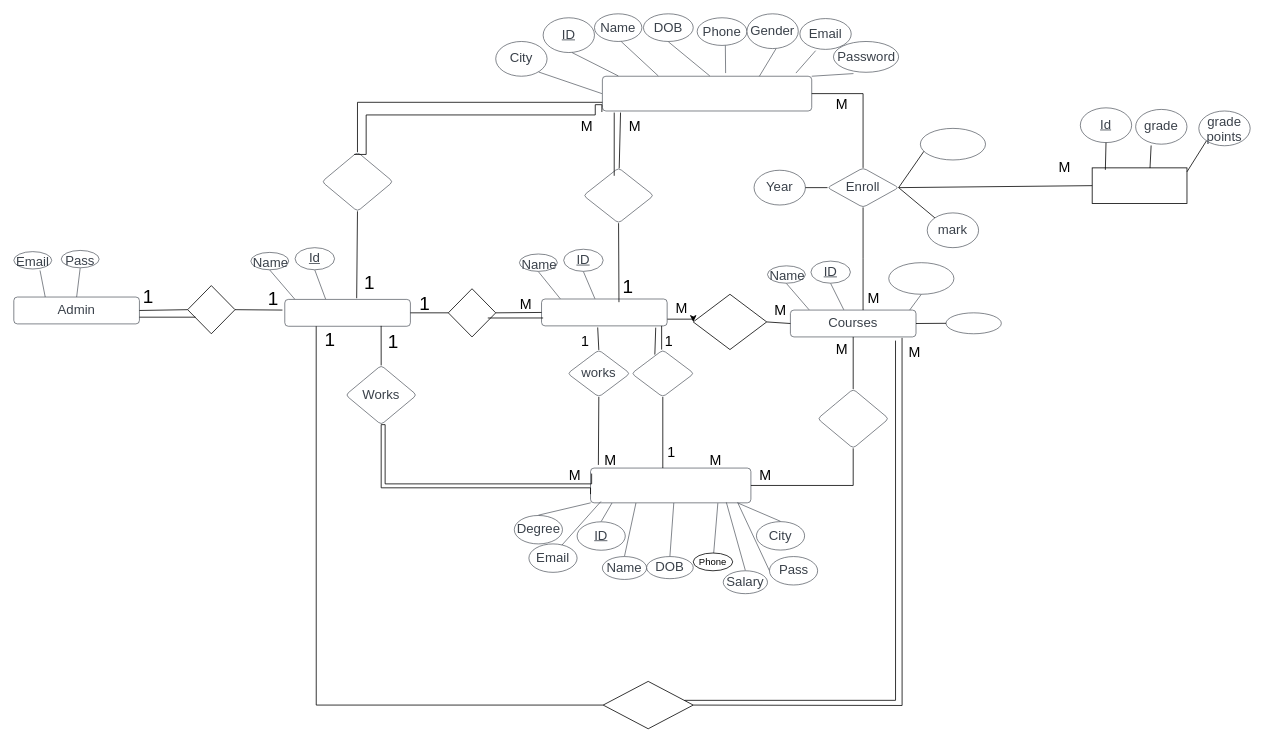
Image size: 1264x743. Some labels were removed from this diagram. The shapes that lost their labels are listed below. From the top down, each one's centre as x and y in pixels, then its label:
(707,93): Student
(952,144): Semester
(357,181): belongs to
(618,195): Register
(1139,185): Grades
(921,278): Max mark
(211,309): Manage
(347,312): Faculty
(472,312): has
(604,312): Department
(729,321): teached at
(973,323): Credits
(662,373): head
(853,418): teaches
(670,485): Teacher
(647,705): Registered
